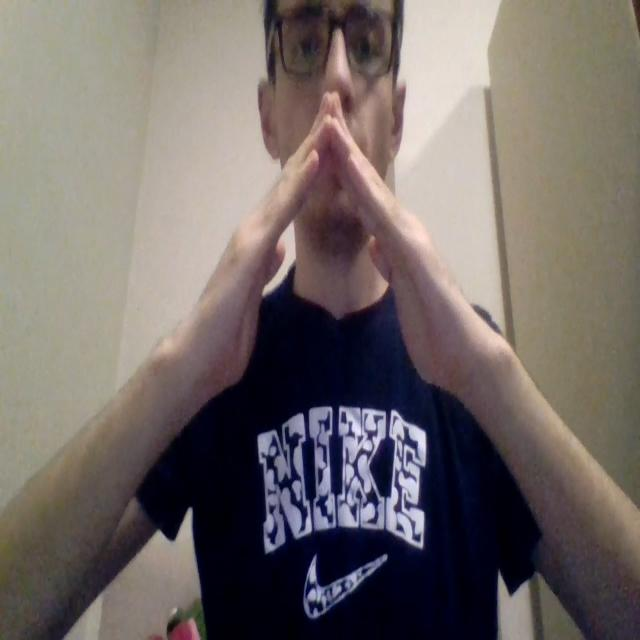house: (179, 95, 478, 394)
